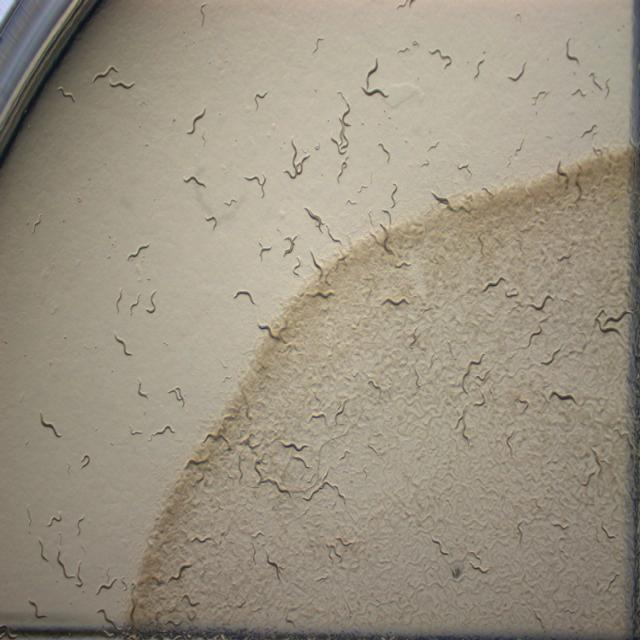filarid: (302, 470, 346, 505), (254, 457, 292, 497), (304, 207, 340, 244), (56, 544, 82, 587), (284, 138, 311, 179), (461, 352, 485, 394), (431, 192, 470, 214), (204, 427, 232, 450), (266, 549, 285, 581), (455, 405, 470, 445), (595, 309, 620, 333), (338, 130, 349, 181), (41, 412, 61, 438), (244, 174, 266, 196), (169, 562, 192, 581), (550, 390, 578, 405), (149, 424, 175, 440), (528, 294, 554, 310), (482, 275, 506, 292), (185, 454, 210, 469), (115, 334, 131, 357), (605, 310, 631, 324), (168, 385, 185, 406), (282, 234, 299, 255), (280, 440, 309, 452), (541, 347, 560, 365), (431, 537, 449, 555), (556, 160, 569, 184), (234, 290, 255, 304), (258, 320, 275, 337), (146, 290, 158, 314), (335, 399, 348, 420), (326, 544, 342, 561), (575, 163, 582, 201), (291, 455, 310, 469), (39, 537, 50, 561), (190, 534, 216, 544), (99, 574, 115, 590), (184, 175, 205, 187), (470, 561, 490, 573), (310, 412, 328, 425), (305, 290, 334, 298), (130, 244, 149, 256), (381, 297, 409, 305), (341, 103, 350, 127), (382, 227, 390, 254), (138, 379, 149, 398), (311, 250, 321, 270), (380, 143, 390, 161), (130, 294, 139, 314), (292, 257, 301, 276), (458, 163, 471, 176), (184, 594, 198, 606), (391, 184, 398, 208), (336, 537, 351, 547), (474, 392, 485, 405), (192, 474, 205, 485), (49, 514, 61, 525), (260, 242, 271, 254), (116, 289, 122, 311), (468, 551, 481, 561), (594, 450, 601, 468), (206, 217, 218, 227), (505, 290, 519, 298), (81, 454, 90, 466), (482, 188, 494, 197), (520, 399, 529, 411), (395, 260, 410, 267), (249, 442, 259, 452), (518, 520, 522, 545), (382, 210, 391, 221), (506, 439, 512, 455), (479, 372, 488, 382), (531, 327, 541, 336), (78, 517, 83, 533), (429, 141, 439, 149), (421, 158, 429, 167), (130, 428, 140, 435), (251, 531, 265, 536), (559, 254, 570, 260), (358, 185, 369, 191), (316, 575, 328, 580), (525, 337, 531, 346), (346, 199, 356, 204), (466, 194, 472, 202), (539, 318, 548, 323), (315, 142, 320, 149)
